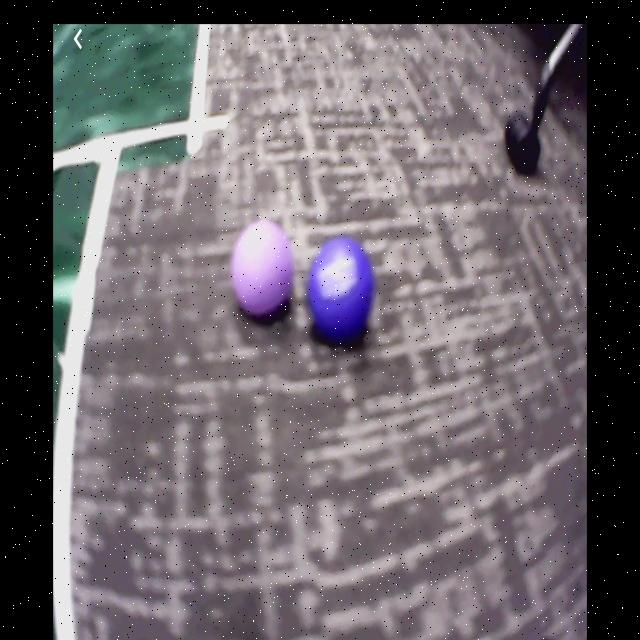ball: (309, 241, 375, 344), (234, 221, 294, 319)
